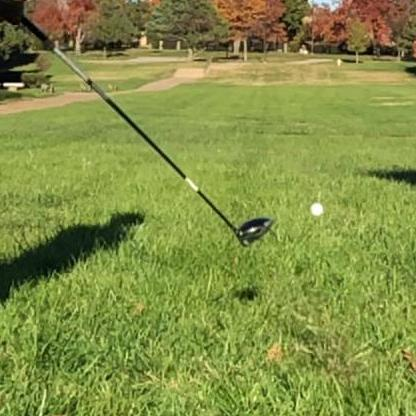golfball: (307, 200, 322, 215)
